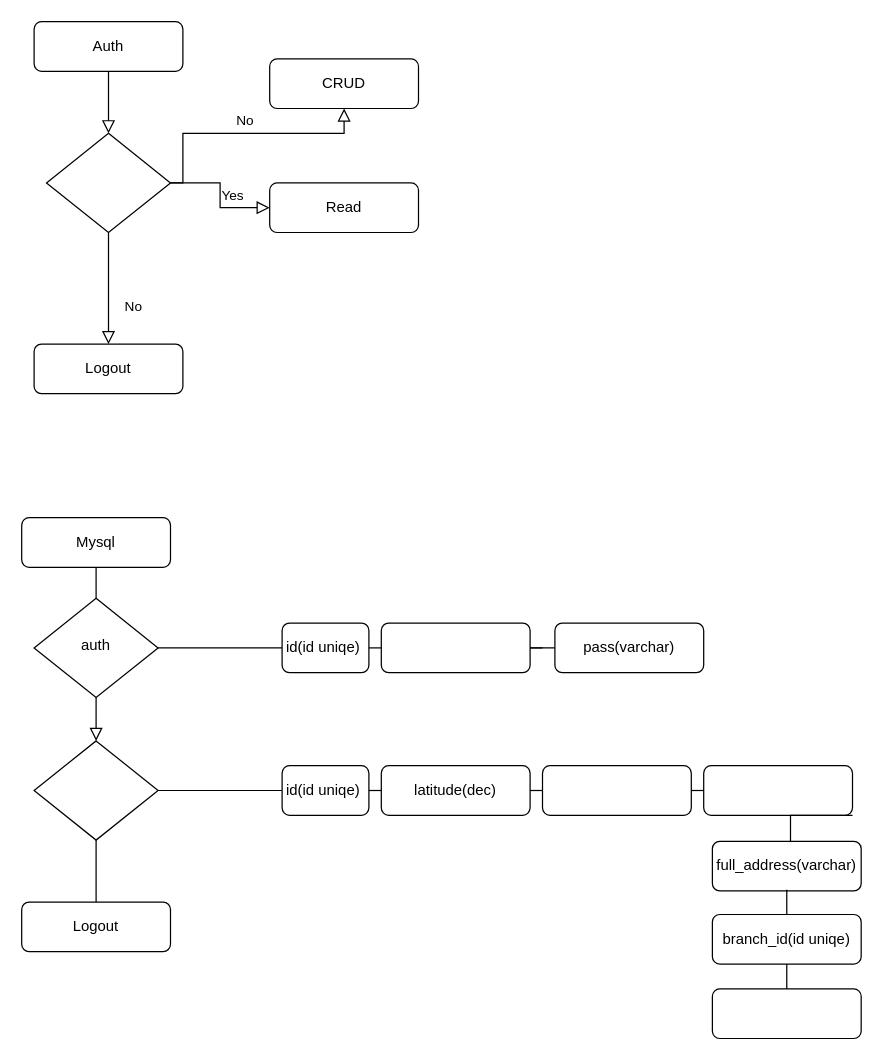
Image size: 883x1060. Some labels were removed from this diagram. The centre of each missing label's shape, as x and y in pixels:
companies: (95,790)
isEmployee: (107,182)
longitute(dec): (616,789)
name(varchar): (777,789)
nickname(varchar): (455,647)
phone(int32): (786,1013)
